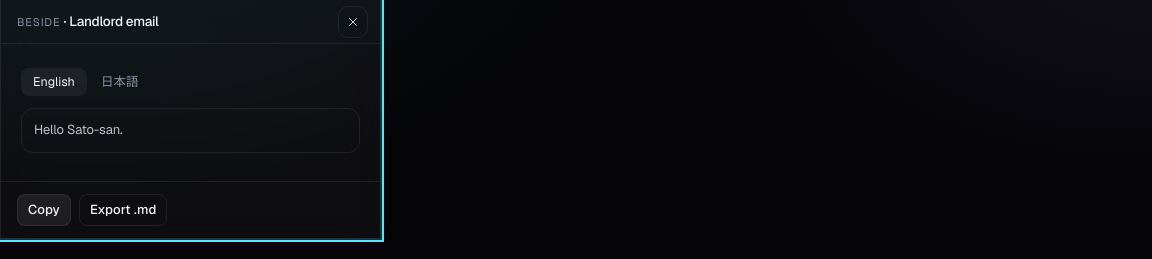
Scenario: ArtifactPanel — Beside › a tabs block renders real, switchable sections in the body
The image size is (1152, 259).
Expected: the text "Hello Sato-san." is shown, [21,108,360,153]
Click the tab "日本語". click: (120, 82)
box: [89,68,150,96]
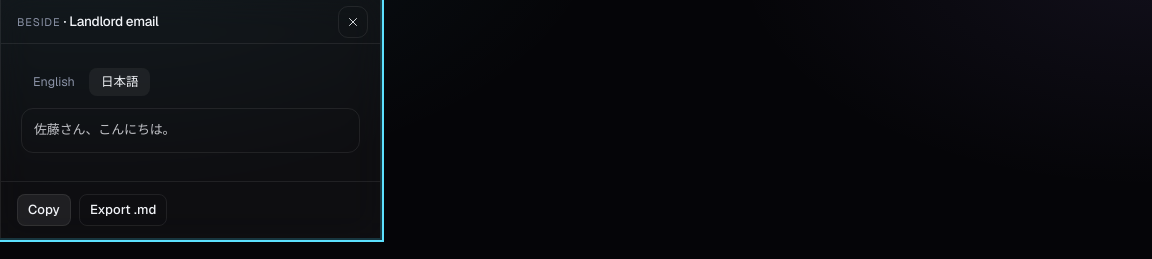
Now the text "佐藤さん、こんにちは。" is shown, box [21,108,360,153]
